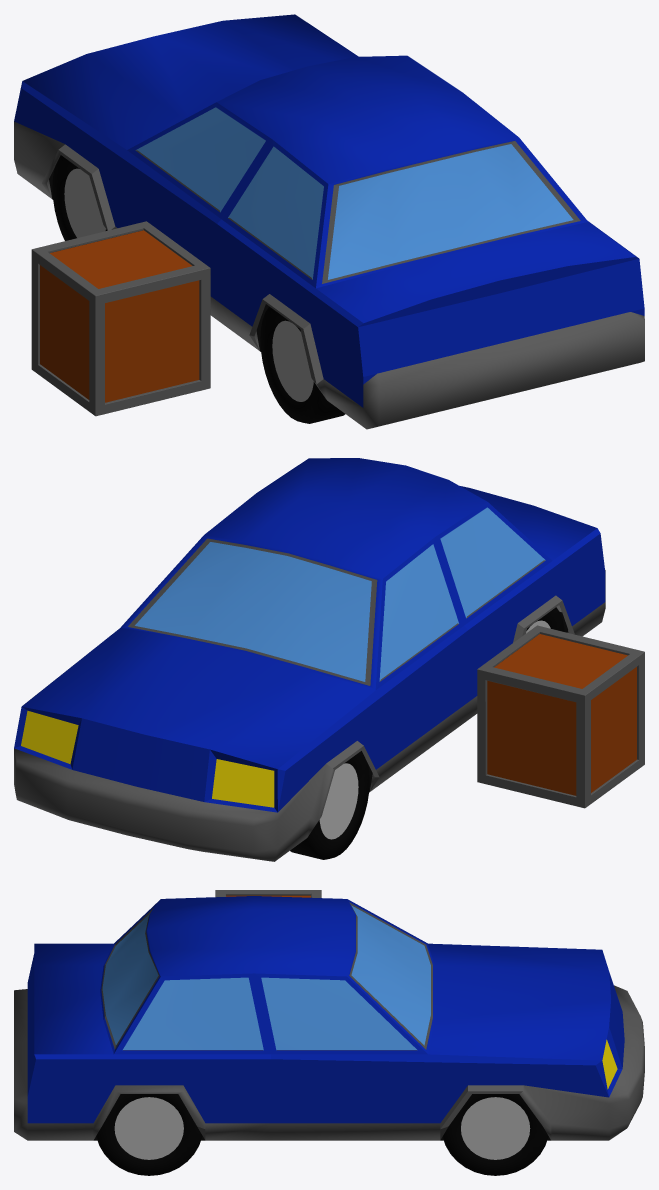
The model's file is przeszkoda2.fbx.
3 renders of one model, top to bottom at view 1: azimuth 30°, elevation 25°; view 2: azimuth 150°, elevation 25°; view 3: azimuth 270°, elevation 25°, orthographic. The views are drawn at different scales.
Visible parts, largest first — view 1: PolonezBlue, Chest; view 2: PolonezBlue, Chest; view 3: PolonezBlue, Chest.
Part boxes in pixels (<box>): PolonezBlue: <box>14,14,644,429</box>; Chest: <box>31,221,210,416</box>; PolonezBlue: <box>14,458,605,861</box>; Chest: <box>477,625,644,808</box>; PolonezBlue: <box>14,896,644,1175</box>; Chest: <box>215,890,321,897</box>.
Bounding box in the file's own units: 315 × 159 × 467.
